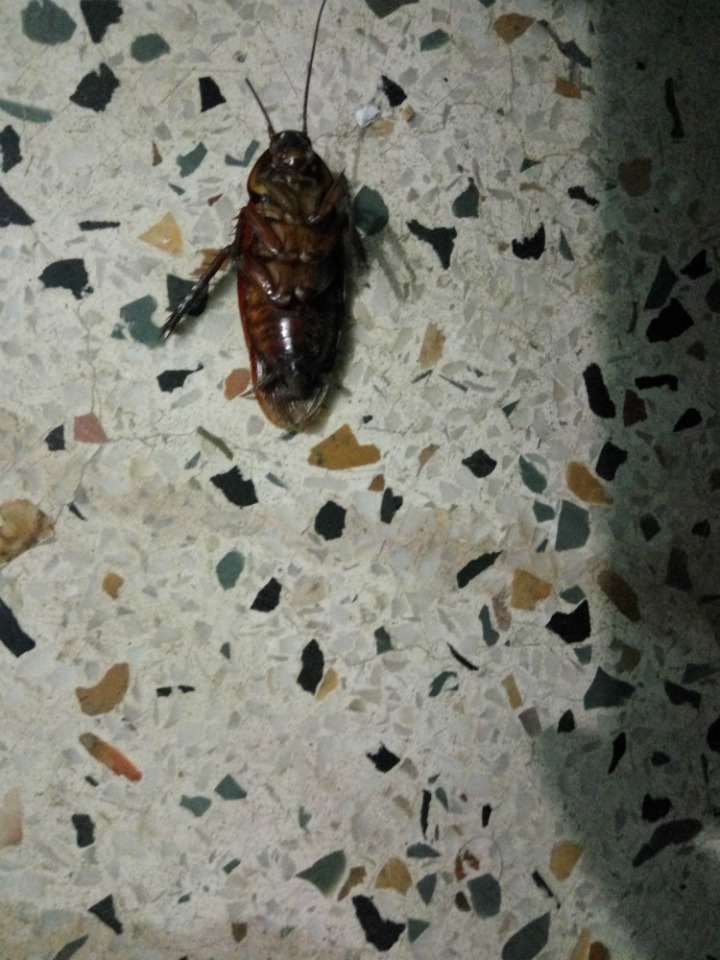cockroach: (103, 2, 521, 515)
